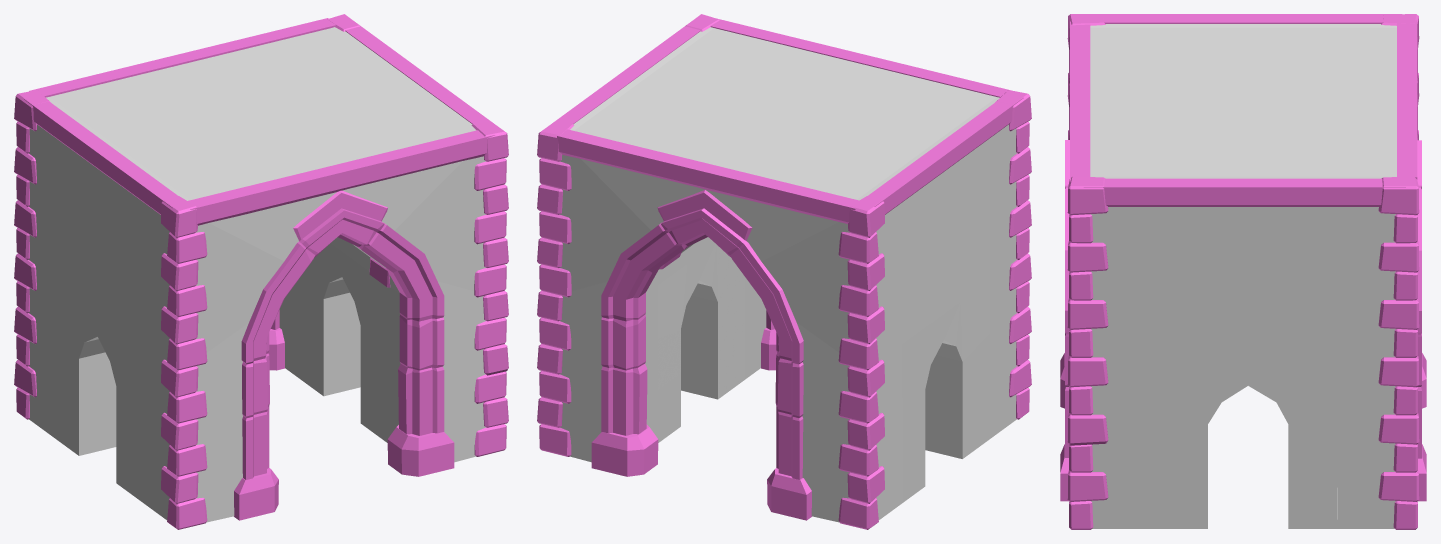
File: SM_Gate_Bottom_Small_Doors_Fantasy_Base.fbx
3 renders of one model, left to right at view 1: azimuth 30°, elevation 25°; view 2: azimuth 150°, elevation 25°; view 3: azimuth 270°, elevation 25°, orthographic. The views are drawn at different scales.
Visible parts, largest first — view 1: SM_Gate_Bottom_Small_Doors_Fantasy_Base; view 2: SM_Gate_Bottom_Small_Doors_Fantasy_Base; view 3: SM_Gate_Bottom_Small_Doors_Fantasy_Base.
Boxes of the visible parts, x1,y1,x2,y2 form: SM_Gate_Bottom_Small_Doors_Fantasy_Base: [14, 14, 508, 529]; SM_Gate_Bottom_Small_Doors_Fantasy_Base: [537, 14, 1031, 529]; SM_Gate_Bottom_Small_Doors_Fantasy_Base: [1060, 14, 1426, 529].
Bounding box in the file's own units: 6.61 × 6.05 × 5.83.
